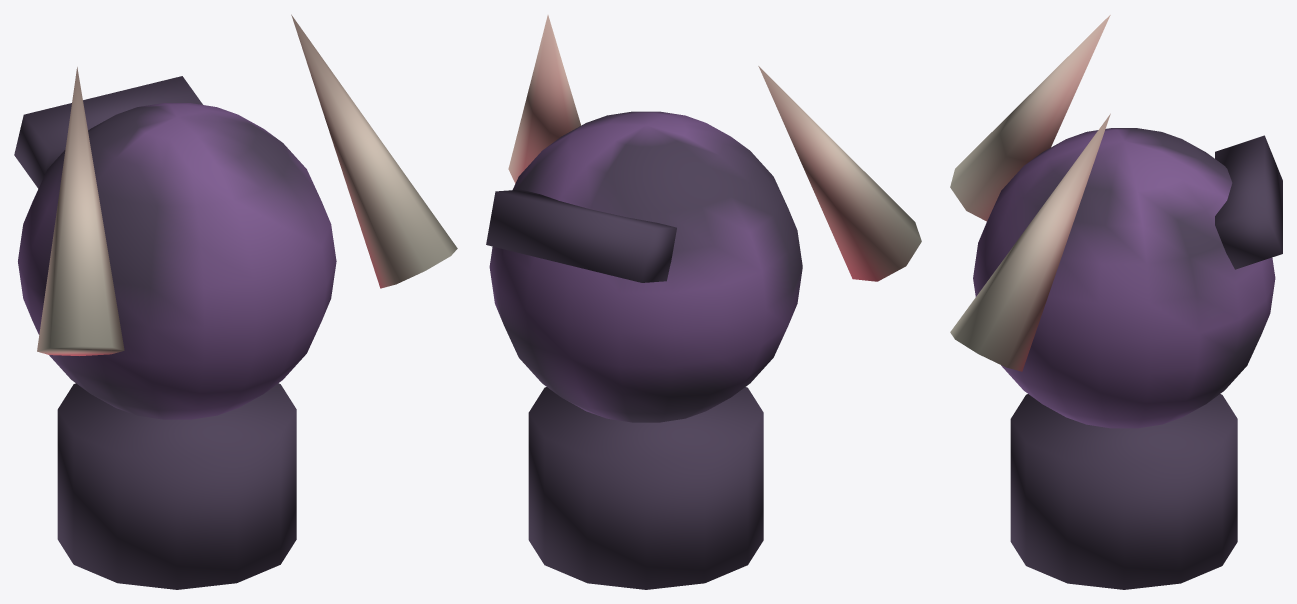
File: head_horned.glb
3 views of the same model, side by side, from view 1: azimuth 30°, elevation 25°; view 2: azimuth 150°, elevation 25°; view 3: azimuth 270°, elevation 25° (orthographic). The views are drawn at different scales.
Parts seen in each view (by area): view 1: HornedHead, NeckStub, Horn_L, Horn_R, Brow; view 2: HornedHead, NeckStub, Brow, Horn_L, Horn_R; view 3: HornedHead, NeckStub, Horn_R, Horn_L, Brow.
Boxes of the visible parts, x1,y1,x2,y2 form: HornedHead: (18,103,336,419); NeckStub: (57,383,296,589); Horn_L: (37,67,124,355); Horn_R: (291,14,457,288); Brow: (14,76,202,188); HornedHead: (489,111,802,422); NeckStub: (528,387,763,589); Brow: (486,189,676,282); Horn_L: (758,66,921,281); Horn_R: (508,15,580,183); HornedHead: (973,128,1275,428); NeckStub: (1010,394,1237,589); Horn_R: (950,113,1110,371); Horn_L: (950,15,1110,221); Brow: (1215,135,1282,269).
Bounding box in the file's own units: 0.5903 × 0.6985 × 0.4402.
